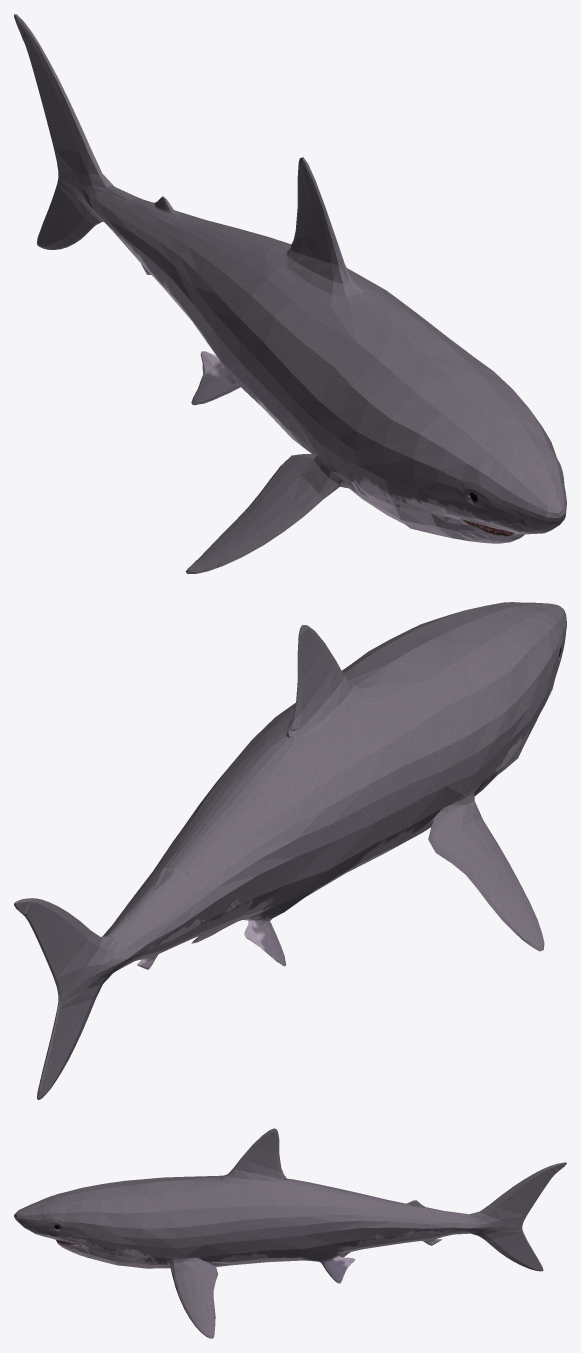
File: Shark.obj
3 views of the same model, one above another, from view 1: azimuth 30°, elevation 25°; view 2: azimuth 150°, elevation 25°; view 3: azimuth 270°, elevation 25° (orthographic). The views are drawn at different scales.
Parts seen in each view (by area): view 1: Shark_01SG1.001; view 2: Shark_01SG1.001; view 3: Shark_01SG1.001.
Part boxes in pixels (x1,y1,x2,y2): Shark_01SG1.001: (14,14,566,573); Shark_01SG1.001: (14,602,566,1099); Shark_01SG1.001: (14,1128,566,1338).
Bounding box in the file's own units: 26.9 × 23.62 × 71.11.
1 material, 1 textured.
